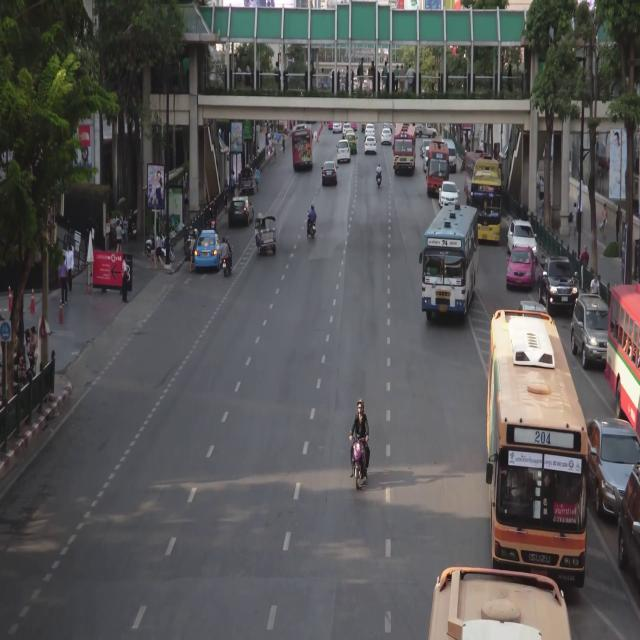bus: (491, 307, 587, 592), (430, 567, 573, 640), (426, 200, 477, 316), (608, 286, 640, 445), (471, 161, 500, 241), (466, 153, 500, 207), (428, 141, 450, 195), (394, 123, 416, 174), (292, 124, 313, 169)
car: (586, 417, 640, 513), (573, 296, 608, 371), (621, 465, 640, 591), (540, 256, 580, 311), (508, 219, 536, 258), (255, 215, 276, 254), (228, 198, 253, 225), (438, 180, 459, 207), (442, 139, 457, 172), (416, 123, 438, 138), (322, 163, 337, 185), (338, 139, 351, 162), (242, 169, 254, 193), (420, 139, 433, 157), (365, 137, 377, 155), (381, 128, 391, 145), (424, 146, 429, 170), (365, 125, 375, 137), (343, 124, 351, 136), (333, 122, 341, 132), (384, 123, 392, 132), (345, 129, 353, 134)
pedestrian: (58, 257, 68, 306), (121, 256, 130, 303), (65, 244, 73, 290), (154, 231, 163, 271), (579, 242, 590, 267), (615, 204, 622, 241), (116, 222, 123, 255), (29, 326, 36, 358), (602, 203, 608, 240), (184, 183, 189, 214), (591, 275, 600, 292), (540, 195, 545, 224), (573, 202, 577, 236), (231, 172, 236, 197), (224, 176, 228, 207), (539, 174, 544, 198), (256, 166, 260, 192), (265, 131, 269, 154), (273, 143, 277, 165), (282, 132, 285, 153), (269, 135, 272, 154), (256, 145, 260, 154)
taxi: (506, 244, 536, 288), (195, 233, 222, 269), (346, 134, 357, 153)
